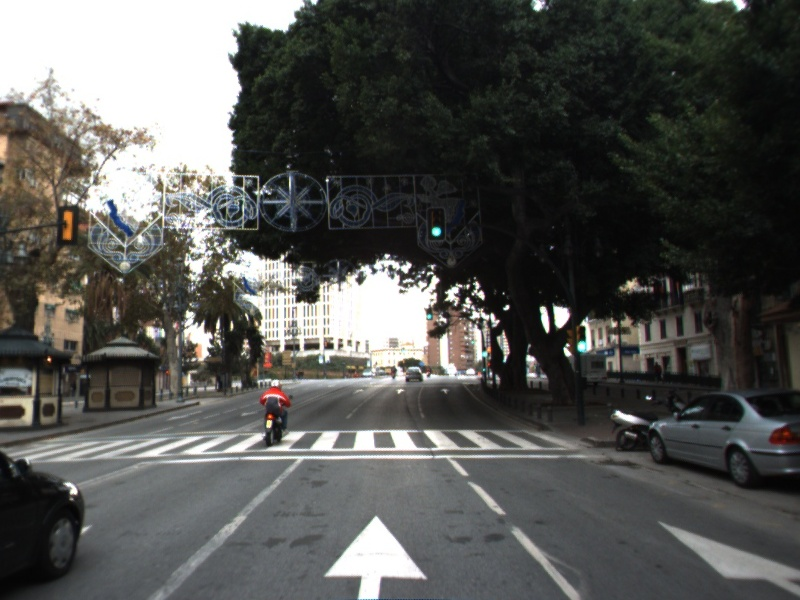STRAIGHT: (651, 515, 800, 598), (319, 510, 433, 600)
